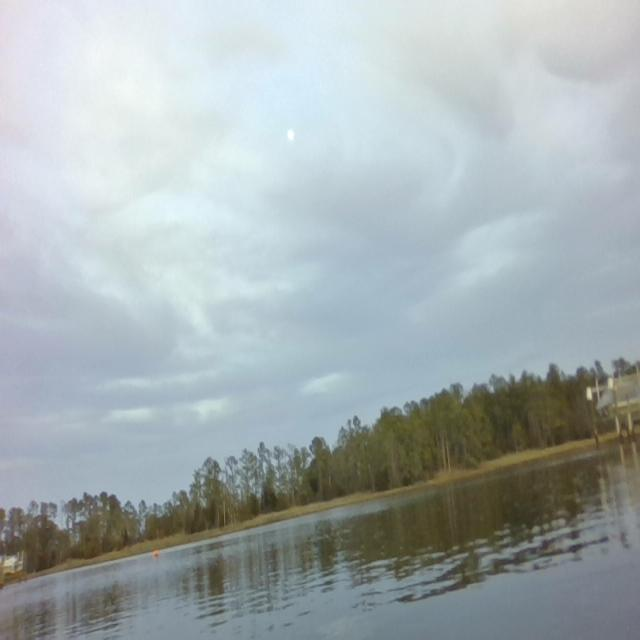Buoy: (152, 548, 158, 558)
